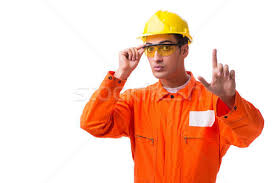Person_wearing_helmet: (135, 10, 194, 59)
